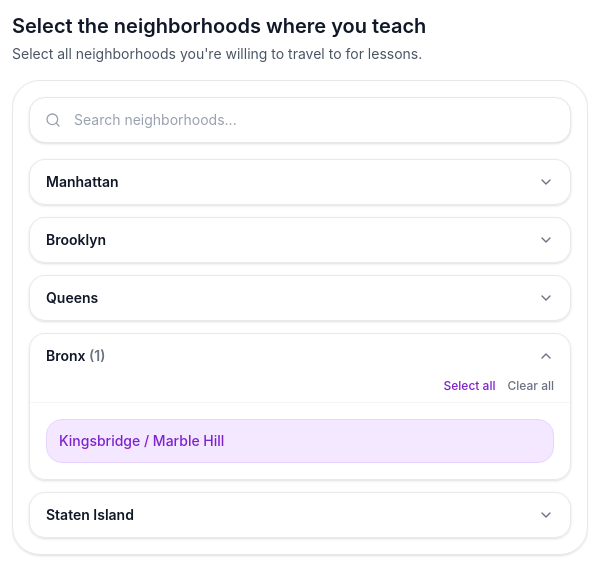
NeighborhoodSelector › allows all browse-mode boroughs to stay collapsed after a user closes the selected borough
Click the button with test id "neighborhood-borough-bronx" at [66, 356], box [46,346,554,366]
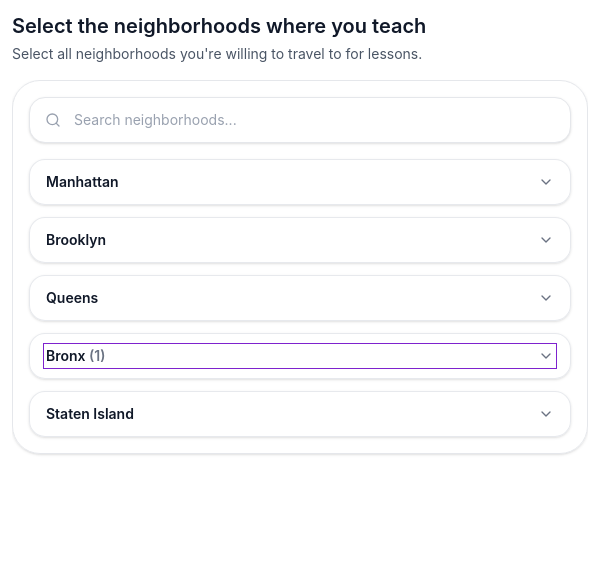
Expected: the button with test id "neighborhood-borough-bronx" is collapsed, [46,346,554,366]
Expected: the button with test id "neighborhood-chip-marble" is gone
